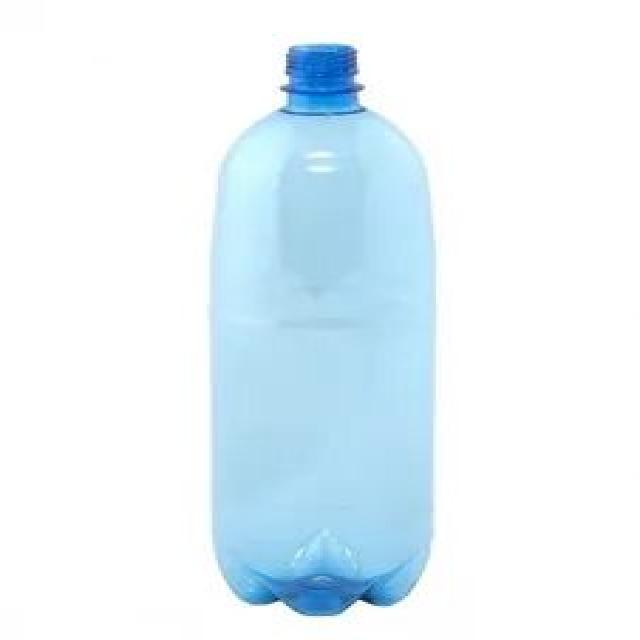blue: (215, 45, 429, 615)
